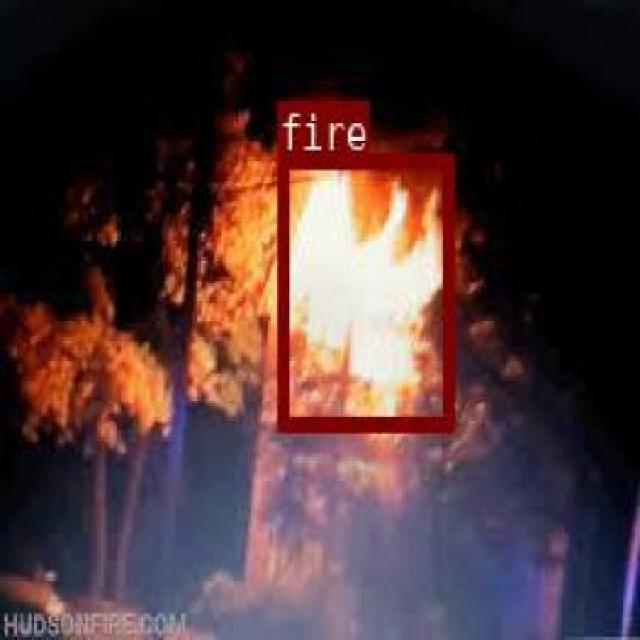Fire: (175, 279, 363, 291)
